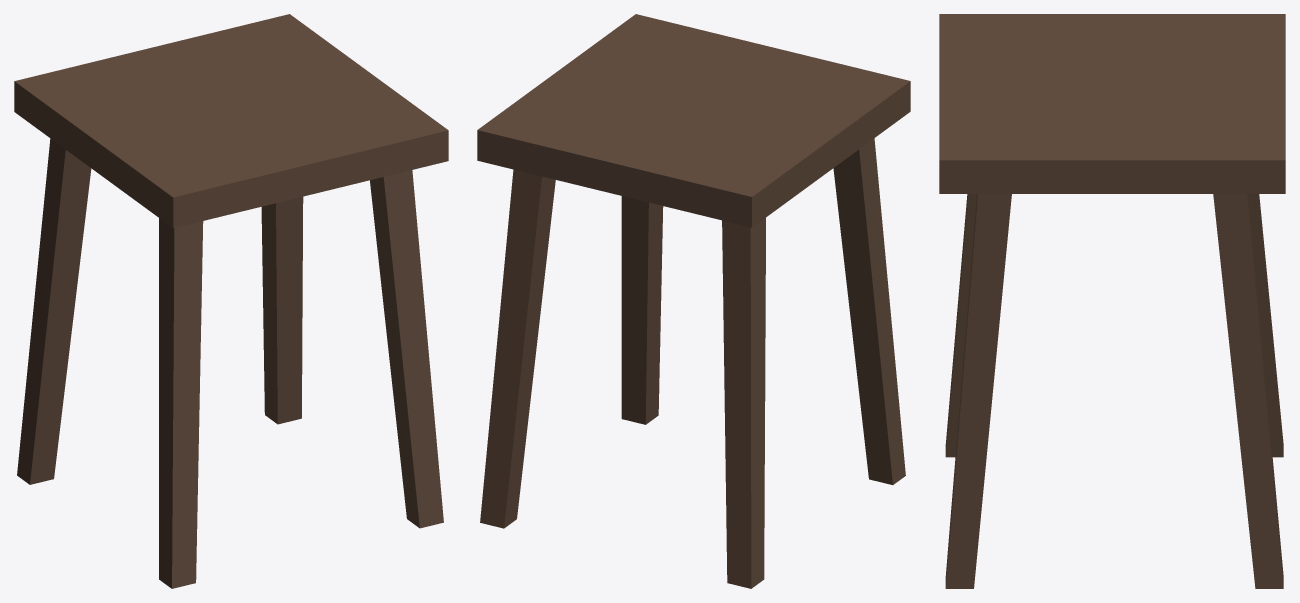
The model's file is Taburet_type1_01.FBX.
3 views of the same model, side by side, from view 1: azimuth 30°, elevation 25°; view 2: azimuth 150°, elevation 25°; view 3: azimuth 270°, elevation 25° (orthographic). The views are drawn at different scales.
Visible parts, largest first — view 1: Taburet_type1_01; view 2: Taburet_type1_01; view 3: Taburet_type1_01.
Part boxes in pixels (bbox=[...]): Taburet_type1_01: bbox=[14, 14, 448, 588]; Taburet_type1_01: bbox=[477, 14, 910, 588]; Taburet_type1_01: bbox=[939, 14, 1285, 588].
Size of the model in its own units: 87.89 by 120 by 87.86.
